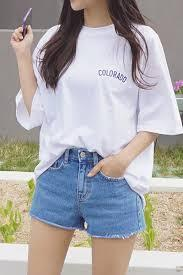Tshirt: (12, 15, 181, 192)
short: (30, 143, 148, 242)
